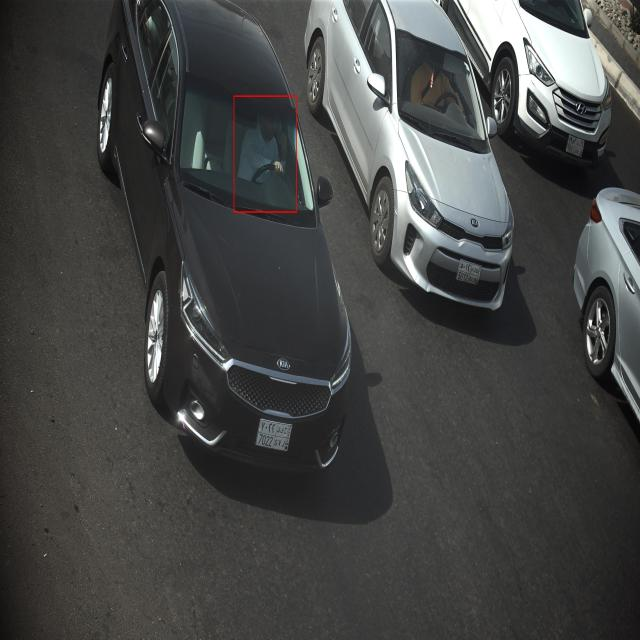windshield: (176, 63, 327, 238), (387, 25, 492, 156)
